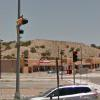Traffic light: (66, 43, 82, 71)
